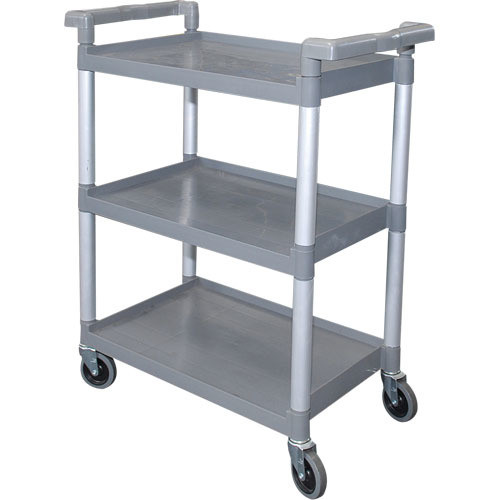Carts: (64, 2, 436, 500)
